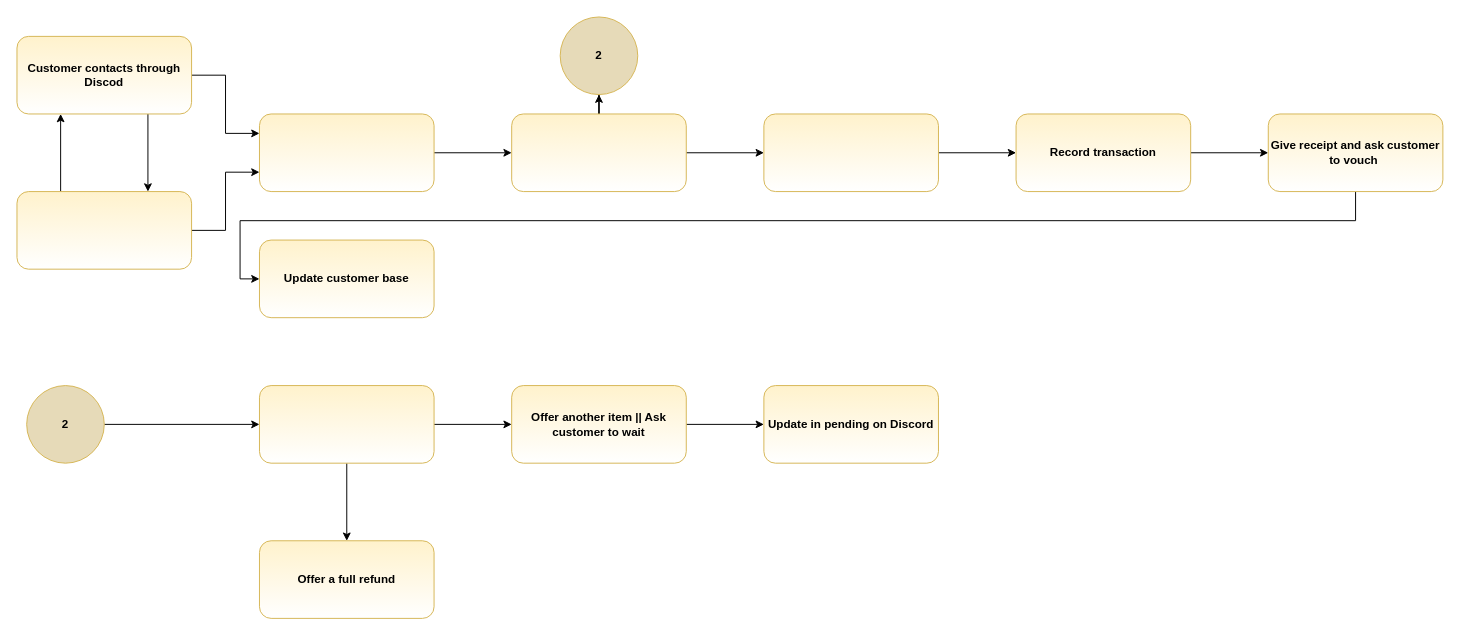
The diagram is 1460 pixels wide and 635 high, and some of its shapes have lost their labels. The shapes that lost their labels are listed below. From the top down, each one's box as (x1, y1, x2, y2) in pixels, then its label:
(259, 113, 434, 192): List and verify the items ordered through Notepad
(511, 113, 686, 192): Check if items exist on Roblox and tick
(763, 113, 938, 192): Inform customers
(16, 191, 192, 269): Customer made a payment
(259, 385, 434, 463): Not enough items
